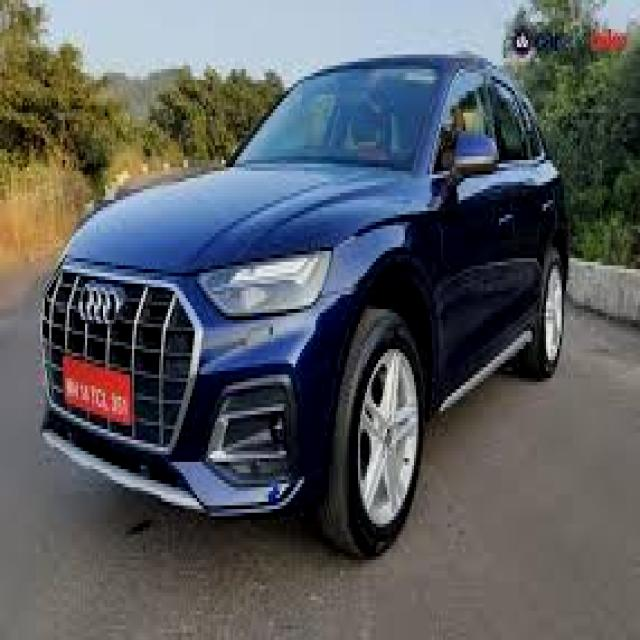SUV: (32, 47, 562, 556)
